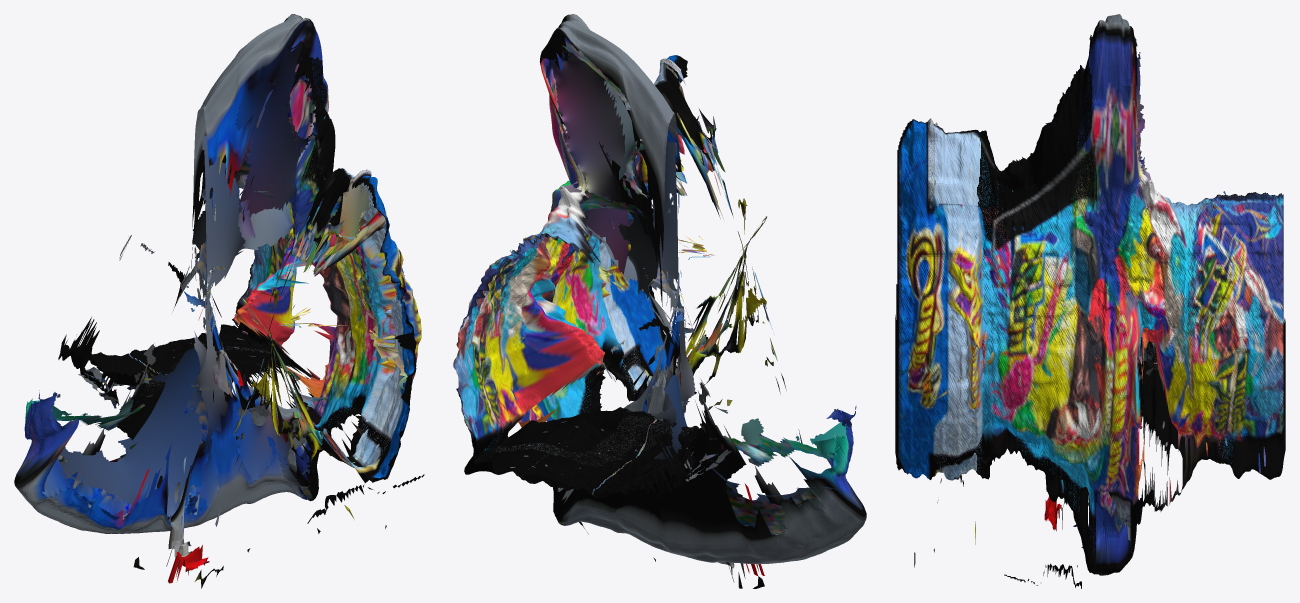
File: detail_mesh.glb
The picture shows the model from 3 angles, left to right: view 1: azimuth 30°, elevation 25°; view 2: azimuth 150°, elevation 25°; view 3: azimuth 270°, elevation 25°; orthographic projection. The views are drawn at different scales.
Visible parts, largest first — view 1: ipn, fill; view 2: ipn, fill; view 3: ipn, fill.
Boxes of the visible parts, x1,y1,x2,y2 form: ipn: [14, 14, 424, 588]; fill: [31, 40, 413, 561]; ipn: [453, 14, 866, 588]; fill: [516, 41, 852, 535]; ipn: [895, 14, 1285, 588]; fill: [931, 35, 1225, 547].
Bounding box in the file's own units: 1.39 × 1.9 × 1.14.
Materials: 2 (1 with a texture image).
